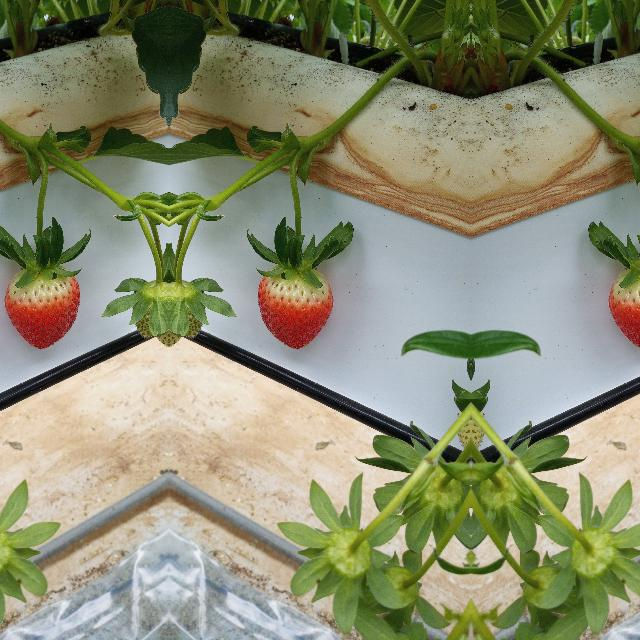Health_100: (256, 269, 334, 349), (2, 269, 80, 349), (607, 269, 640, 349)
